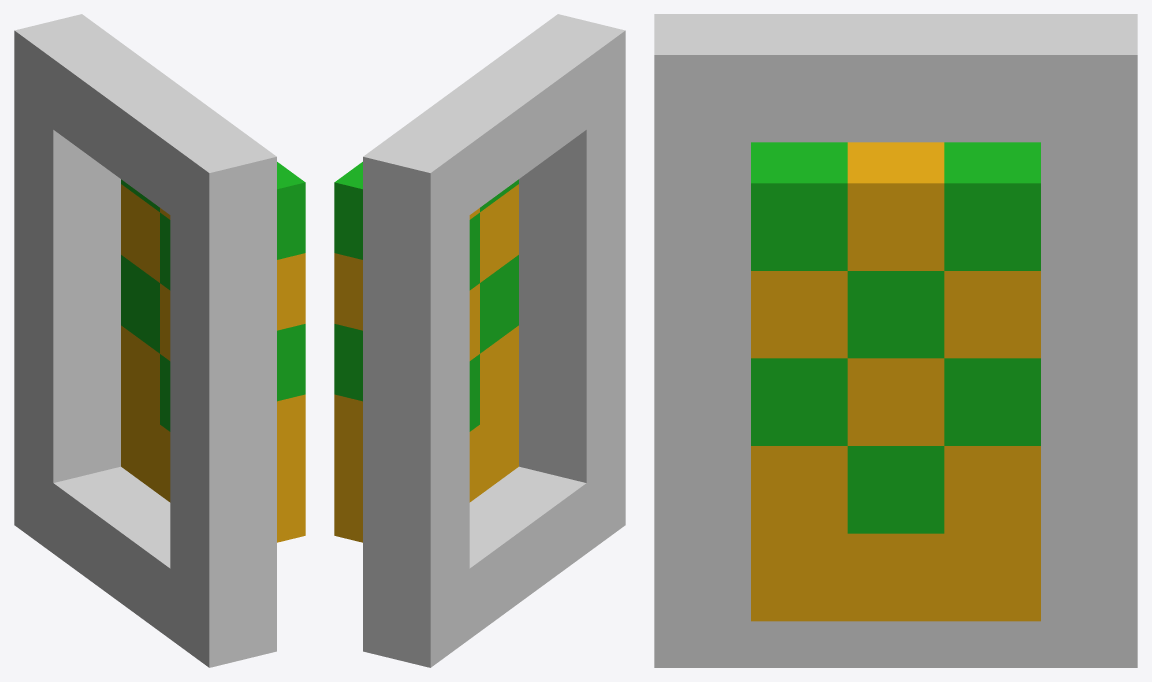
The model's file is Kitchen_cabinets-18.obj.
3 renders of one model, left to right at view 1: azimuth 30°, elevation 25°; view 2: azimuth 150°, elevation 25°; view 3: azimuth 270°, elevation 25°, orthographic. The views are drawn at different scales.
Size of the model in its own units: 0.2 by 0.7 by 0.5.
1 material, 1 textured.
